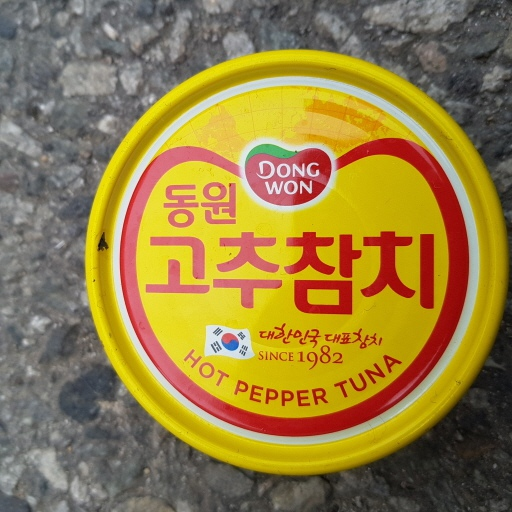Metal_1: (83, 48, 507, 474)
